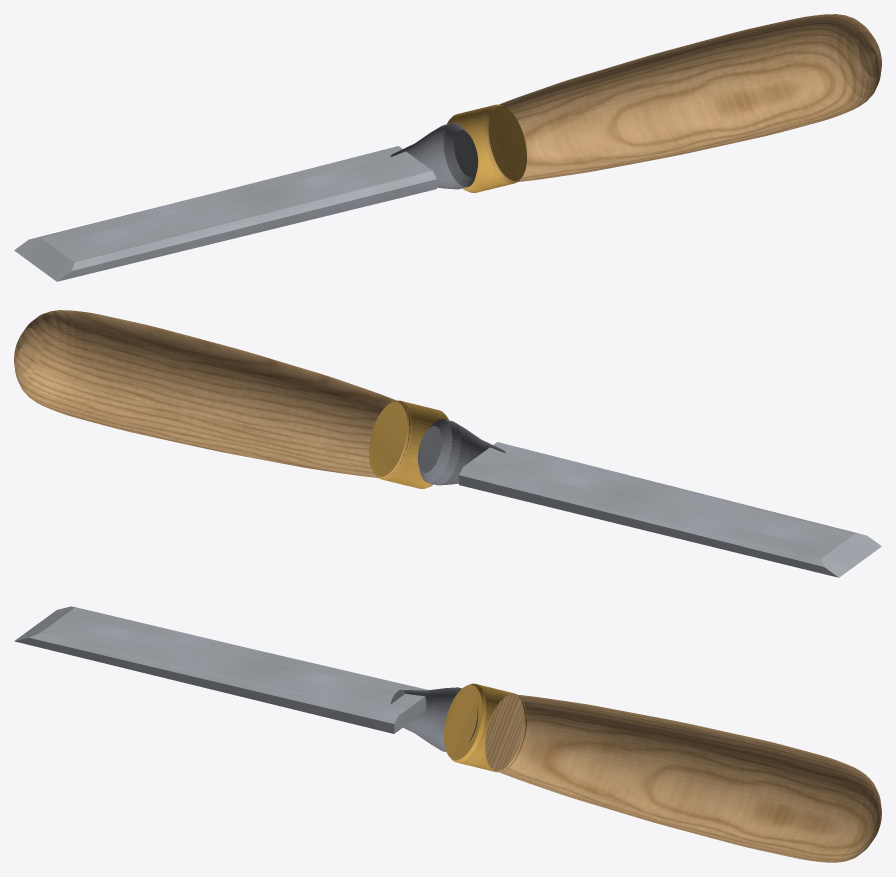
File: formon.glb
3 views of the same model, one above another, from view 1: azimuth 30°, elevation 25°; view 2: azimuth 150°, elevation 25°; view 3: azimuth 330°, elevation 25° (orthographic).
Visible parts, largest first — view 1: mango, hoja, virola, cuello; view 2: mango, hoja, virola, cuello; view 3: mango, hoja, virola, cuello.
Part boxes in pixels (box(x1,y1,x2,y2)): mango: box(485, 14, 881, 182); hoja: box(14, 146, 436, 281); virola: box(447, 104, 526, 192); cuello: box(390, 123, 478, 189); mango: box(14, 310, 410, 478); hoja: box(459, 442, 881, 577); virola: box(369, 400, 448, 488); cuello: box(417, 419, 505, 485); mango: box(485, 694, 881, 862); hoja: box(14, 606, 428, 733); virola: box(444, 683, 526, 772); cuello: box(390, 687, 478, 752).
Size of the model in its own units: 0.2829 by 0.0315 by 0.0315.
Materials: 4 (4 with a texture image).
